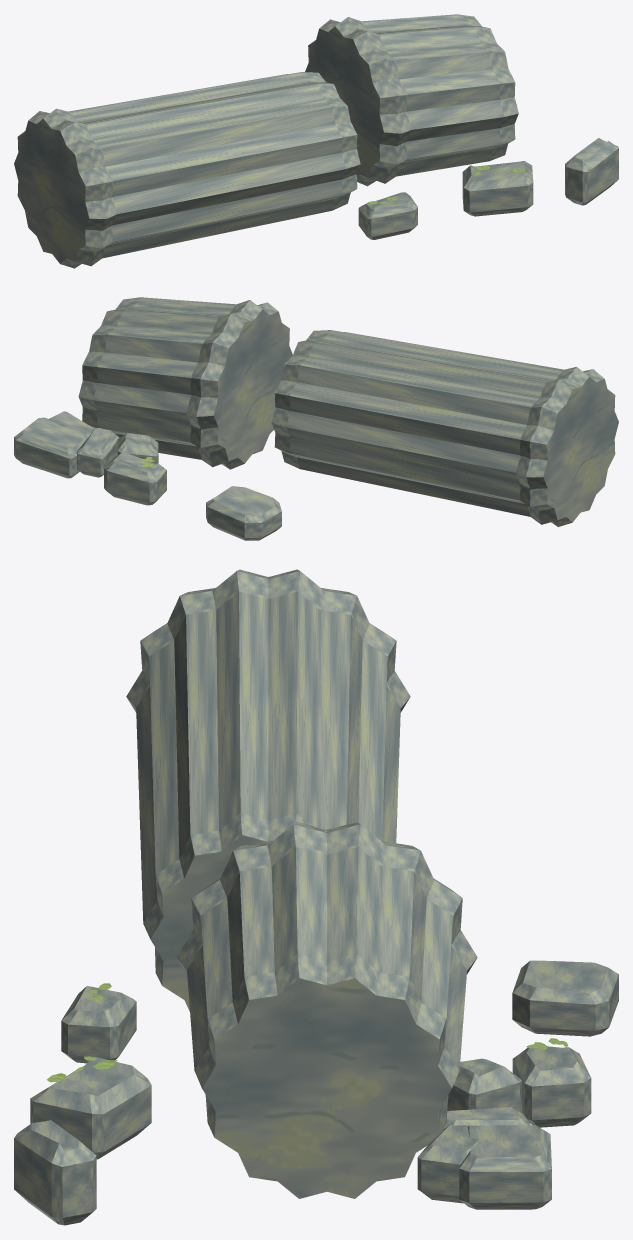
File: FallenDrums.fbx
The picture shows the model from 3 angles, top to bottom: view 1: azimuth 30°, elevation 25°; view 2: azimuth 150°, elevation 25°; view 3: azimuth 270°, elevation 25°; orthographic projection. The views are drawn at different scales.
Parts seen in each view (by area): view 1: FallenDrums; view 2: FallenDrums; view 3: FallenDrums.
Part boxes in pixels (bbox=[...]): FallenDrums: bbox=[14, 14, 618, 268]; FallenDrums: bbox=[14, 297, 618, 540]; FallenDrums: bbox=[14, 569, 618, 1225].
Bounding box in the file's own units: 479 × 144 × 289.
Materials: 1 (1 with a texture image).
